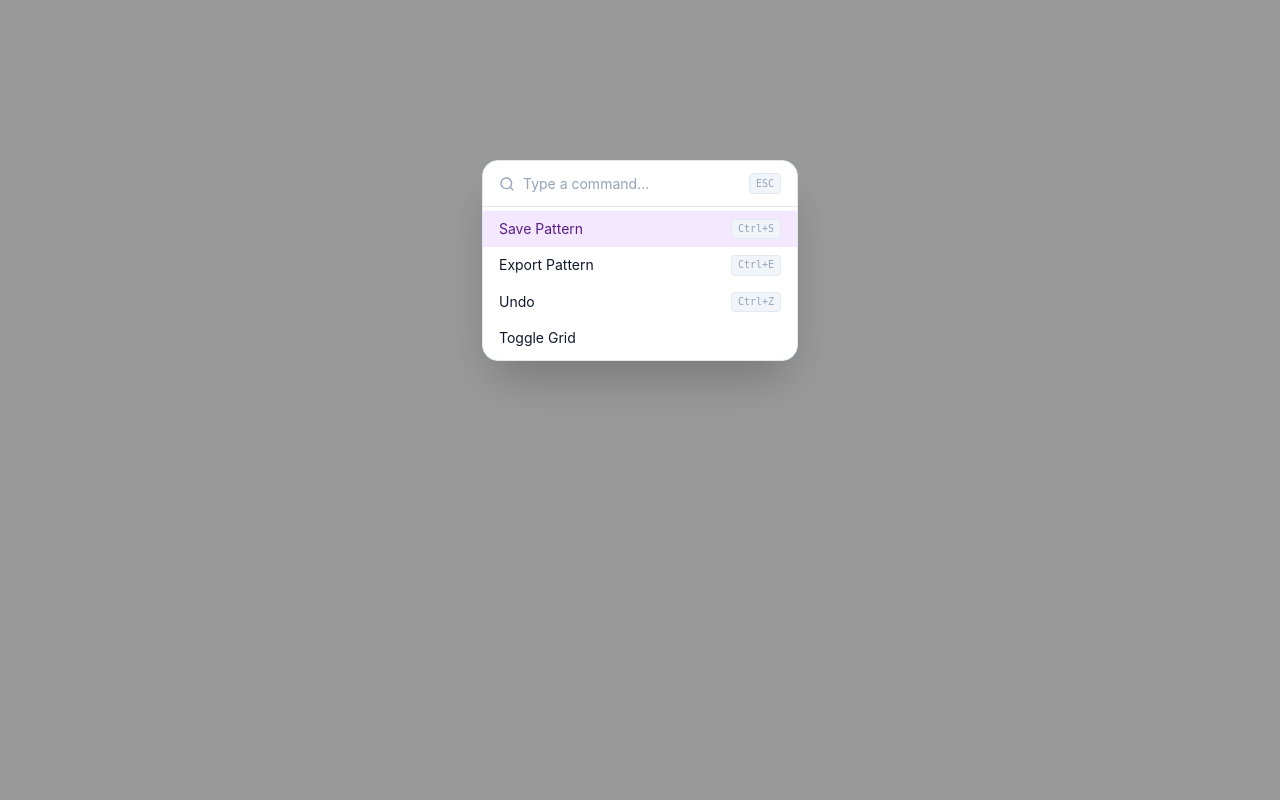
Scenario: CommandPalette › filters commands by query
Type "export" into the field with placeholder "Type a command..." at (632, 184), box [523, 174, 741, 194]
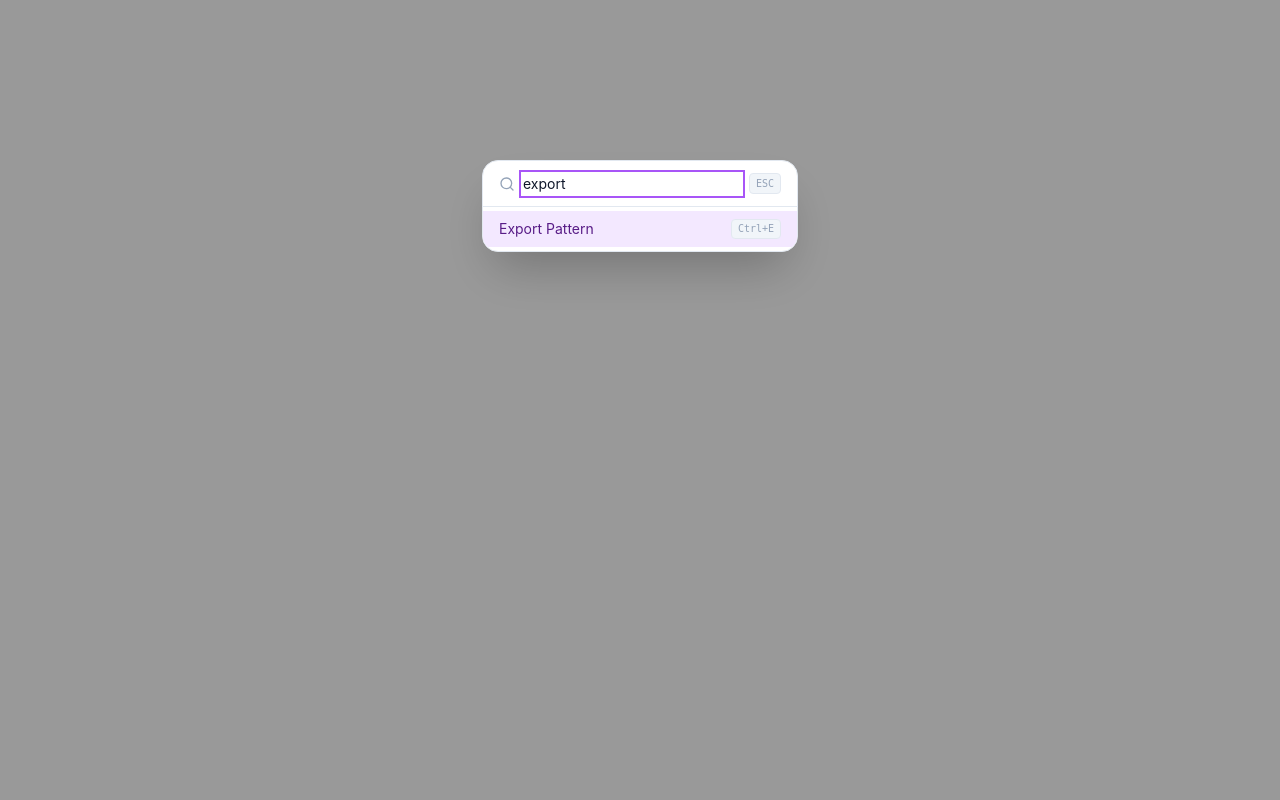
expect the text "Export Pattern" is shown: met, box [499, 220, 594, 237]
expect the button "Save Pattern" is gone: met
expect the button "Undo" is gone: met
